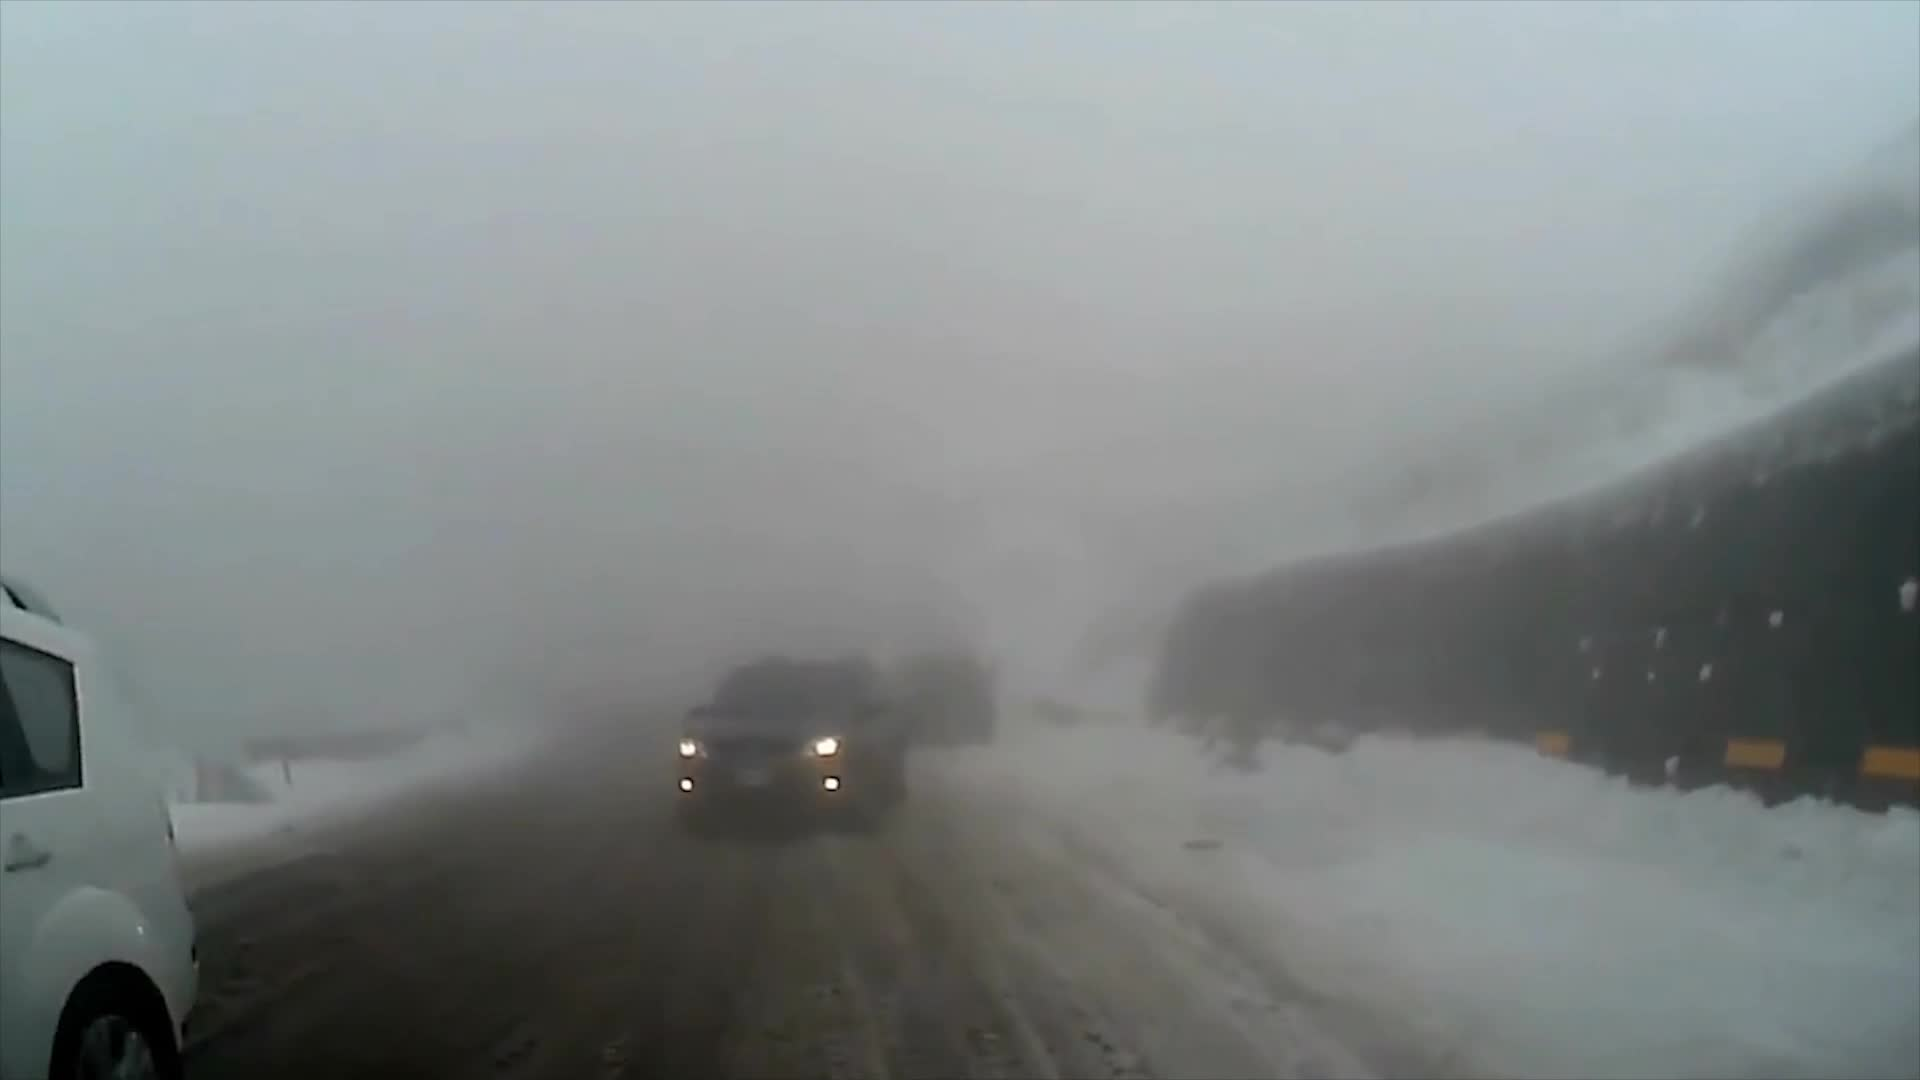vehicle: (0, 568, 200, 1080), (673, 653, 909, 837)
